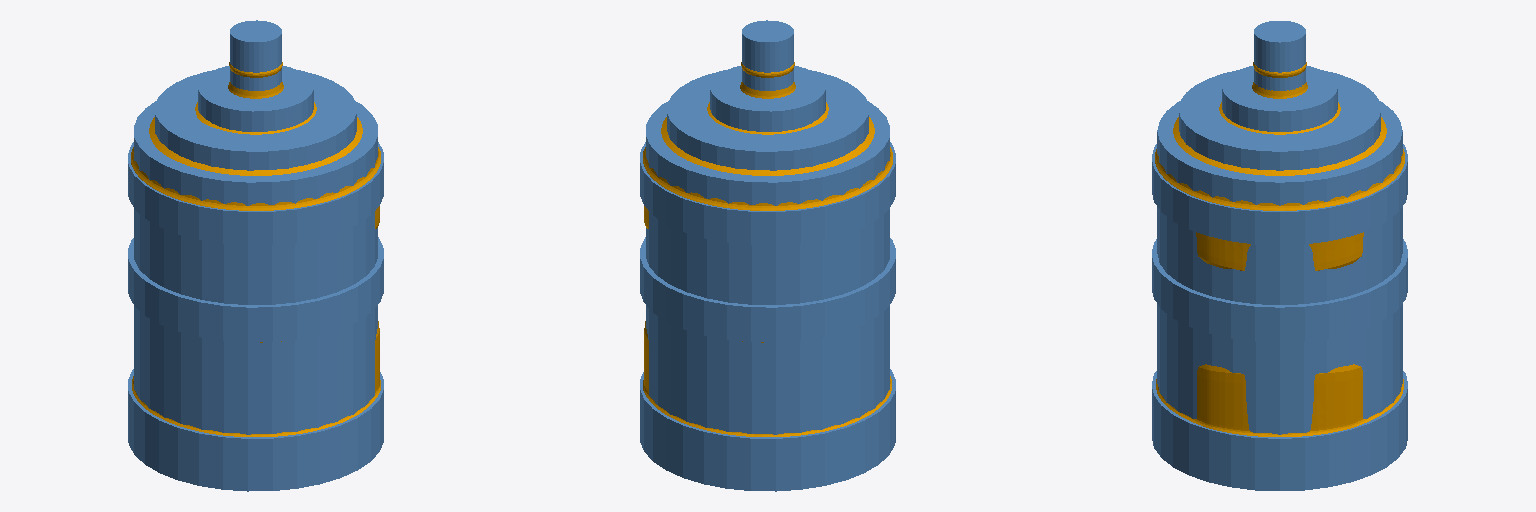
URDF robot description (jug_5_gallon):
<?xml version="1.0"?>
<!-- This is a model of an empty 5-gallon water jug. -->
<robot name="jug_5_gallon">
  <!-- The moment of inertia is for a solid cylinder  -->
  <!-- with uniform density. -->
  <link name="jug">
    <inertial>
      <mass value="0.8"/>
      <origin rpy="0 0 0" xyz="0 0 -0.03"/>
      <inertia ixx="0.014" ixy="0" ixz="0" iyy="0.014" iyz="0" izz="0.006"/>
    </inertial>

    <visual name="jug_visual">
      <geometry>
        <mesh filename="meshes/jug_water_5_gallon.obj"/>
      </geometry>
    </visual>

    <visual name="jug_contact_visual">
      <origin rpy="0 0 0" xyz="0 0 -0.2"/>
      <geometry>
        <cylinder radius="0.133" length="0.06"/>
      </geometry>
      <material>
        <color rgba="0.4 0.6 0.8 0.9"/>
      </material>
    </visual>
    <collision name="jug_collision">
      <origin rpy="0 0 0" xyz="0 0 -0.2"/>
      <geometry>
        <cylinder radius="0.133" length="0.06"/>
      </geometry>
    </collision>

    <visual name="jug_contact_visual_2">
      <origin rpy="0 0 0" xyz="0 0 -0.115"/>
      <geometry>
        <cylinder radius="0.127" length="0.12"/>
      </geometry>
      <material>
        <color rgba="0.4 0.6 0.8 0.9"/>
      </material>
    </visual>
    <collision name="jug_collision_2">
      <origin rpy="0 0 0" xyz="0 0 -0.115"/>
      <geometry>
        <cylinder radius="0.127" length="0.12"/>
      </geometry>
    </collision>

    <visual name="jug_contact_visual_3">
      <origin rpy="0 0 0" xyz="0 0 -0.04"/>
      <geometry>
        <cylinder radius="0.133" length="0.04"/>
      </geometry>
      <material>
        <color rgba="0.4 0.6 0.8 0.9"/>
      </material>
    </visual>
    <collision name="jug_collision_3">
      <origin rpy="0 0 0" xyz="0 0 -0.04"/>
      <geometry>
        <cylinder radius="0.133" length="0.04"/>
      </geometry>
    </collision>

    <visual name="jug_contact_visual_5">
      <origin rpy="0 0 0" xyz="0 0 0.03"/>
      <geometry>
        <cylinder radius="0.127" length="0.1"/>
      </geometry>
      <material>
        <color rgba="0.4 0.6 0.8 0.9"/>
      </material>
    </visual>
    <collision name="jug_collision_5">
      <origin rpy="0 0 0" xyz="0 0 0.03"/>
      <geometry>
        <cylinder radius="0.127" length="0.1"/>
      </geometry>
    </collision>

    <visual name="jug_contact_visual_6">
      <origin rpy="0 0 0" xyz="0 0 0.07"/>
      <geometry>
        <cylinder radius="0.133" length="0.038"/>
      </geometry>
      <material>
        <color rgba="0.4 0.6 0.8 0.9"/>
      </material>
    </visual>
    <collision name="jug_collision_6">
      <origin rpy="0 0 0" xyz="0 0 0.07"/>
      <geometry>
        <cylinder radius="0.133" length="0.038"/>
      </geometry>
    </collision>

    <visual name="jug_contact_visual_7">
      <origin rpy="0 0 0" xyz="0 0 0.095"/>
      <geometry>
        <cylinder radius="0.127" length="0.05"/>
      </geometry>
      <material>
        <color rgba="0.4 0.6 0.8 0.9"/>
      </material>
    </visual>
    <collision name="jug_collision_7">
      <origin rpy="0 0 0" xyz="0 0 0.095"/>
      <geometry>
        <cylinder radius="0.127" length="0.05"/>
      </geometry>
    </collision>

    <visual name="jug_contact_visual_8">
      <pose>0 0 0.115 0 0 0</pose>
      <origin rpy="0 0 0" xyz="0 0 0.115"/>
      <geometry>
        <cylinder radius="0.105" length="0.06"/>
      </geometry>
      <material>
        <color rgba="0.4 0.6 0.8 0.9"/>
      </material>
    </visual>
    <collision name="jug_collision_8">
      <origin rpy="0 0 0" xyz="0 0 0.115"/>
      <geometry>
        <cylinder radius="0.105" length="0.06"/>
      </geometry>
    </collision>

    <visual name="jug_contact_visual_9">
      <origin rpy="0 0 0" xyz="0 0 0.145"/>
      <geometry>
        <cylinder radius="0.06" length="0.05"/>
      </geometry>
      <material>
        <color rgba="0.4 0.6 0.8 0.9"/>
      </material>
    </visual>
    <collision name="jug_collision_9">
      <origin rpy="0 0 0" xyz="0 0 0.145"/>
      <geometry>
        <cylinder radius="0.06" length="0.05"/>
      </geometry>
    </collision>

    <visual name="jug_lid_contact_visual">
      <origin rpy="0 0 0" xyz="0 0 0.201"/>
      <geometry>
        <cylinder radius="0.027" length="0.065"/>
      </geometry>
      <material>
        <color rgba="0.4 0.6 0.8 0.9"/>
      </material>
    </visual>
    <collision name="jug_lid_collision">
      <origin rpy="0 0 0" xyz="0 0 0.201"/>
      <geometry>
        <cylinder radius="0.027" length="0.065"/>
      </geometry>
    </collision>

  </link>
</robot>

--- What the picture shows (computed from the rendered views, not written in the file) ---
The picture shows the robot from 3 angles, left to right: view 1: azimuth 30°, elevation 25°; view 2: azimuth 150°, elevation 25°; view 3: azimuth 270°, elevation 25°; orthographic projection.
Robot: jug_5_gallon — 1 links, 0 joints (none); root link jug; default pose: all joints at 0.
Visible links, largest first — view 1: jug; view 2: jug; view 3: jug.
Boxes of the visible links, x1,y1,x2,y2 form: jug: [128, 20, 383, 491]; jug: [640, 20, 895, 491]; jug: [1152, 21, 1407, 490].
Bounding box of the posed robot: 0.266 × 0.266 × 0.4659 m (x, y, z).
1 mesh visuals loaded from 1 distinct referenced files (1 OBJ).
